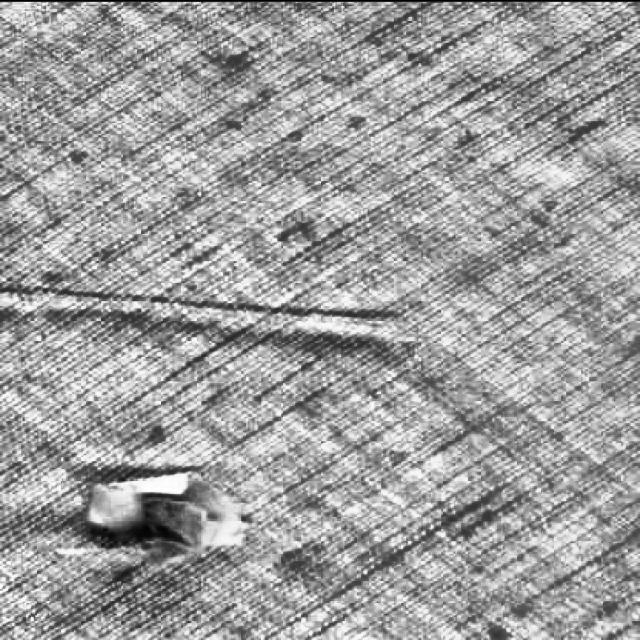hole: (51, 454, 260, 586)
thread_error: (0, 267, 398, 360)
